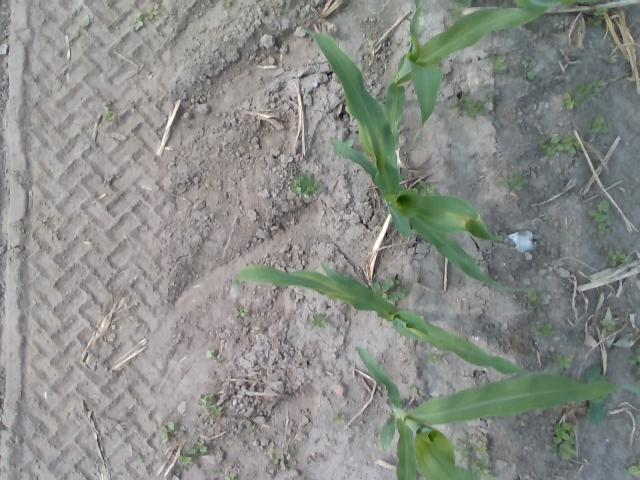Maize: (298, 26, 518, 291), (355, 347, 639, 480), (235, 264, 530, 377), (395, 0, 574, 146)
Weeds: (554, 420, 577, 461), (287, 175, 321, 194), (538, 133, 563, 155), (588, 200, 610, 223), (588, 400, 607, 423), (629, 344, 640, 378), (474, 461, 494, 479), (460, 94, 473, 118), (585, 364, 602, 382), (564, 136, 580, 155), (488, 55, 508, 70), (513, 172, 528, 190), (592, 73, 606, 92), (564, 91, 578, 110), (522, 60, 535, 80), (281, 450, 296, 467), (311, 313, 329, 327), (607, 251, 626, 264), (197, 394, 212, 410), (576, 83, 592, 97), (418, 181, 434, 195), (539, 322, 553, 337), (146, 3, 158, 20), (134, 10, 143, 32), (498, 170, 510, 186), (558, 354, 572, 367), (76, 13, 90, 26), (456, 446, 469, 459), (474, 100, 486, 114), (162, 422, 175, 434), (599, 222, 610, 236), (426, 353, 440, 364), (390, 290, 405, 300), (525, 290, 537, 302), (480, 442, 490, 456), (332, 414, 346, 424), (178, 456, 192, 466), (587, 16, 601, 26), (593, 118, 605, 129), (198, 439, 208, 452), (372, 281, 386, 290), (386, 278, 400, 287), (211, 405, 223, 415), (237, 307, 250, 316), (450, 98, 458, 112), (629, 464, 640, 474), (604, 321, 616, 330), (224, 472, 236, 480), (106, 112, 116, 120), (245, 425, 255, 433), (595, 9, 604, 17), (207, 350, 215, 359), (215, 470, 222, 478), (517, 419, 525, 426), (411, 386, 418, 394), (222, 0, 231, 6), (138, 454, 143, 463), (186, 448, 195, 453)
